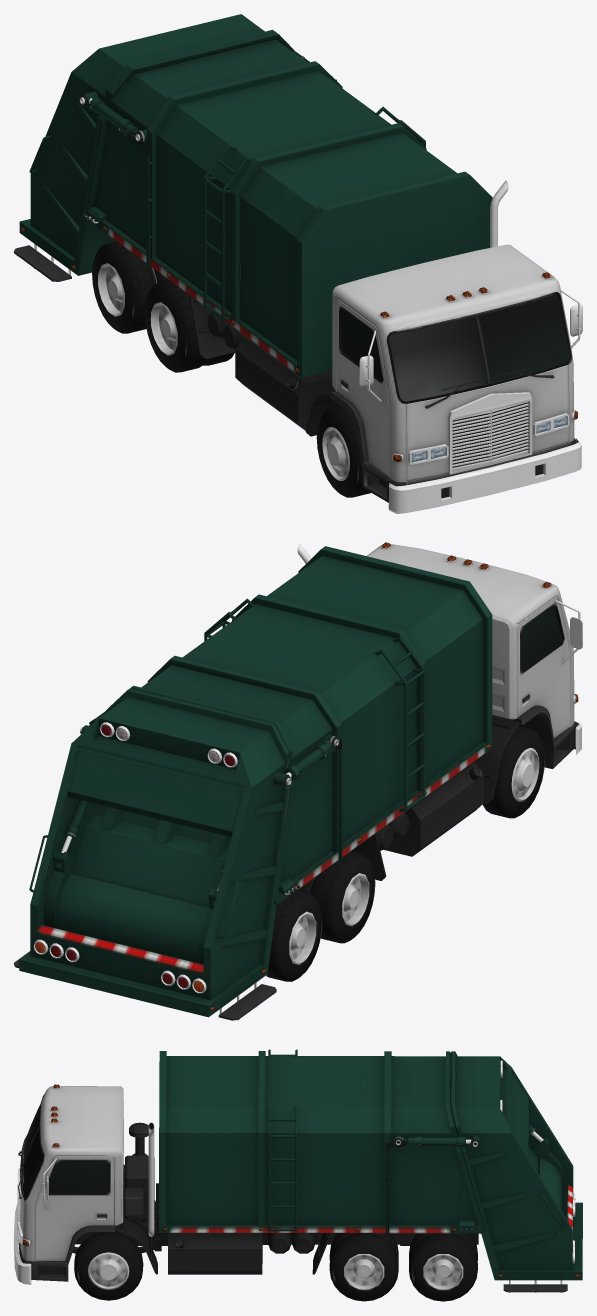
Rendered from garbage.glb.
The picture shows the model from 3 angles, top to bottom: view 1: azimuth 30°, elevation 25°; view 2: azimuth 150°, elevation 25°; view 3: azimuth 270°, elevation 25°; orthographic projection. The views are drawn at different scales.
Parts seen in each view (by area): view 1: garbage body, Rear Right Wheel (×2), Front Right Wheel; view 2: garbage body, Rear Right Wheel (×2), Front Right Wheel; view 3: garbage body, Rear Left Wheel (×2), Front Left Wheel.
Boxes of the visible parts, x1,y1,x2,y2 form: garbage body: (14, 14, 582, 513); Rear Right Wheel (×2): (92, 241, 234, 372); Front Right Wheel: (316, 405, 370, 497); garbage body: (14, 542, 582, 1020); Rear Right Wheel (×2): (266, 851, 375, 981); Front Right Wheel: (482, 726, 544, 818); garbage body: (14, 1049, 582, 1292); Rear Left Wheel (×2): (329, 1233, 477, 1301); Front Left Wheel: (74, 1232, 143, 1300).
Size of the model in its own units: 2.62 by 2.83 by 7.66.
Materials: 1 (1 with a texture image).
